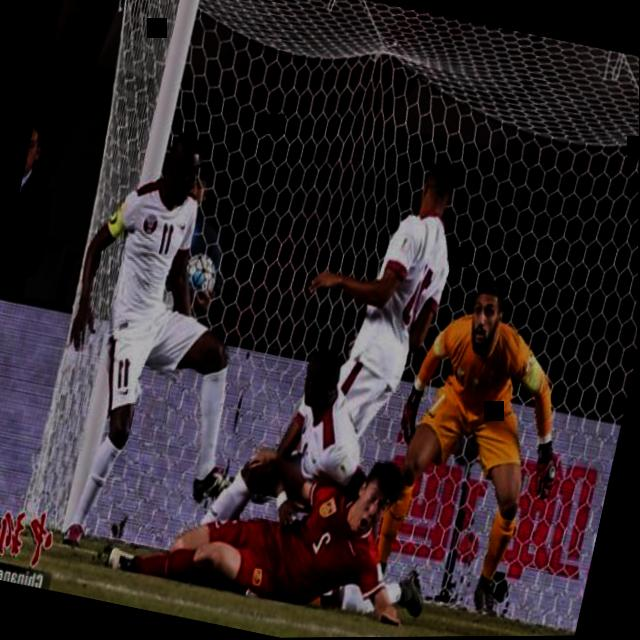Fall-Detected: (86, 398, 450, 639)
